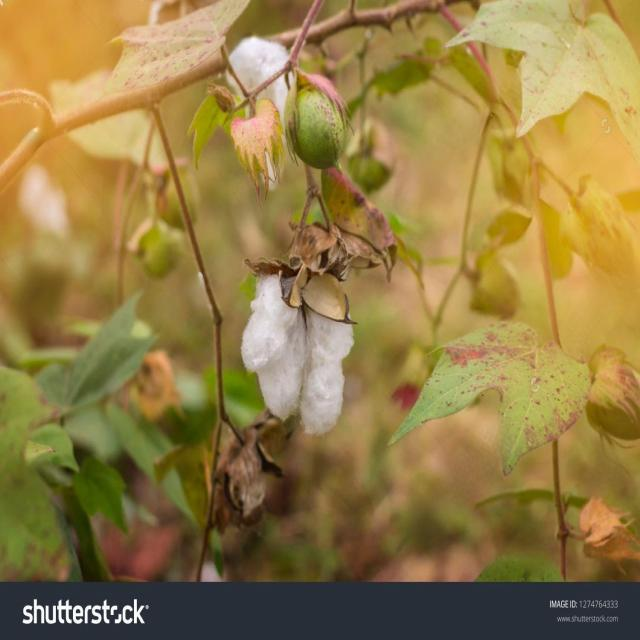Early_blight: (240, 252, 355, 432)
